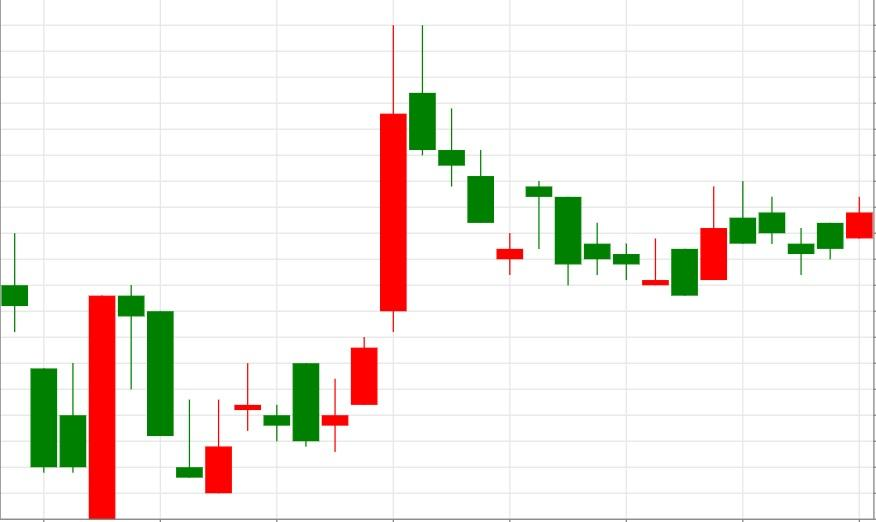three_black_crows_fall: (293, 26, 495, 452)
